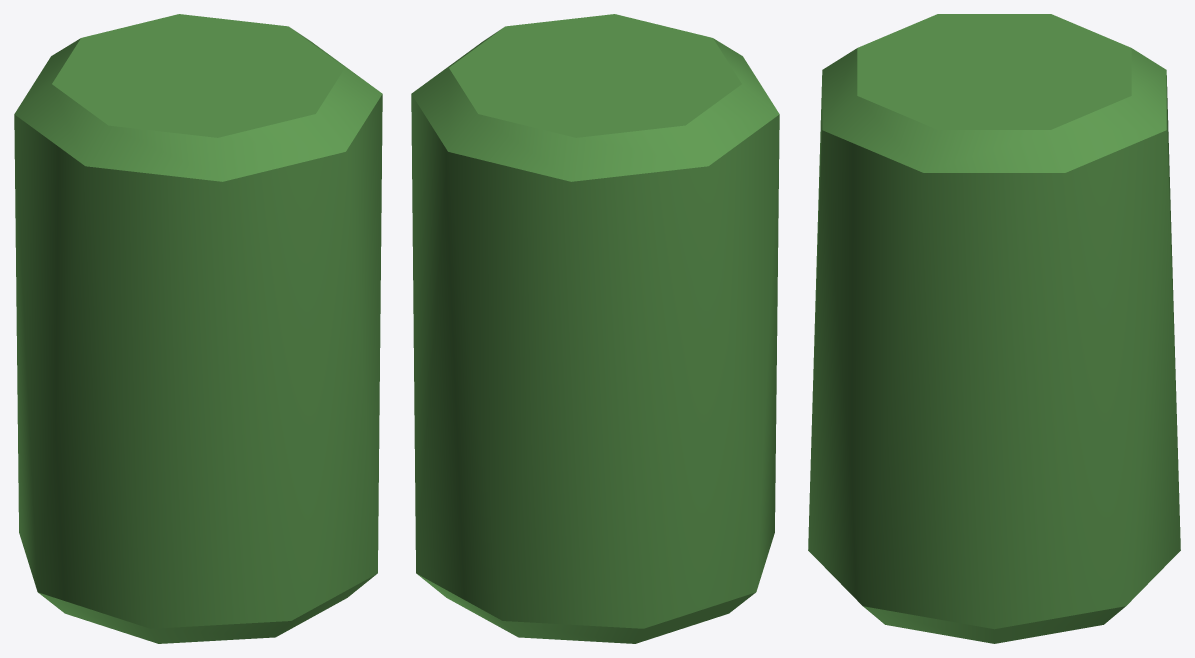
The model's file is cola 1 lod1.FBX.
3 renders of one model, left to right at view 1: azimuth 30°, elevation 25°; view 2: azimuth 150°, elevation 25°; view 3: azimuth 270°, elevation 25°, orthographic.
Visible parts, largest first — view 1: Object338; view 2: Object338; view 3: Object338.
Boxes of the visible parts, <box> form: Object338: <box>14,14,382,643</box>; Object338: <box>411,14,779,643</box>; Object338: <box>808,14,1180,643</box>.
Bounding box in the file's own units: 0.12 × 0.18 × 0.12.
